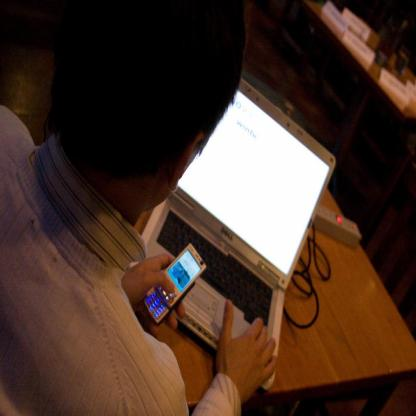board: (140, 78, 336, 390)
